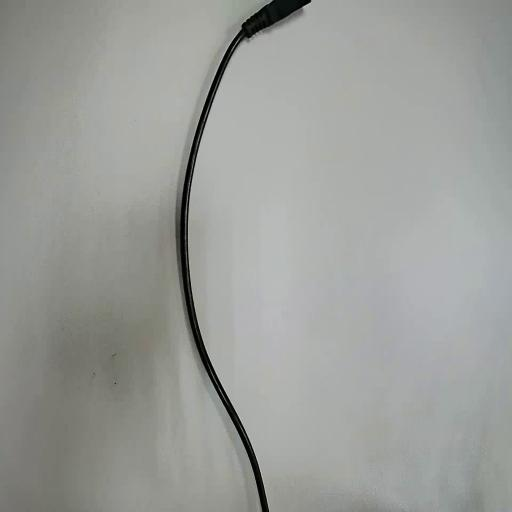wire: (179, 0, 309, 511)
